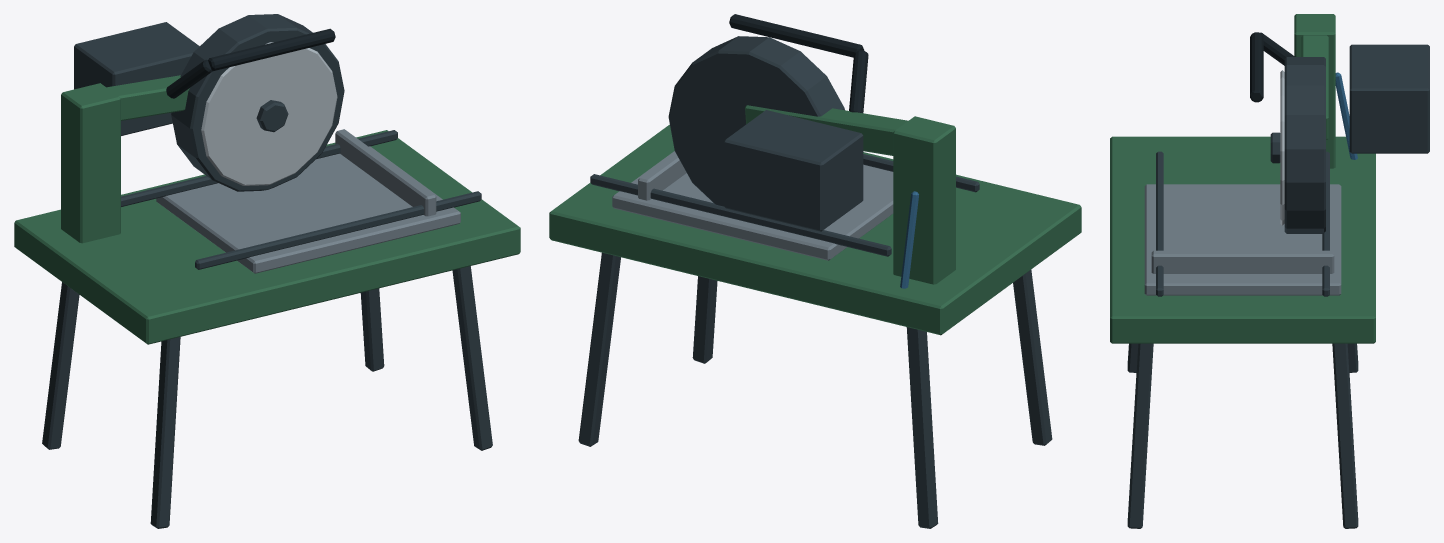
Rendered from b07_masonry_cutoff_saw_bench.glb.
3 renders of one model, left to right at view 1: azimuth 30°, elevation 25°; view 2: azimuth 150°, elevation 25°; view 3: azimuth 270°, elevation 25°, orthographic. The views are drawn at different scales.
Visible parts, largest first — view 1: b07_masonry_cutoff_saw_bench; view 2: b07_masonry_cutoff_saw_bench; view 3: b07_masonry_cutoff_saw_bench.
Part boxes in pixels (x1=…): b07_masonry_cutoff_saw_bench: x1=14, y1=14, x2=520, y2=528; b07_masonry_cutoff_saw_bench: x1=549, y1=14, x2=1081, y2=528; b07_masonry_cutoff_saw_bench: x1=1110, y1=14, x2=1429, y2=528.
Bounding box in the file's own units: 1.55 × 1.57 × 1.15.
